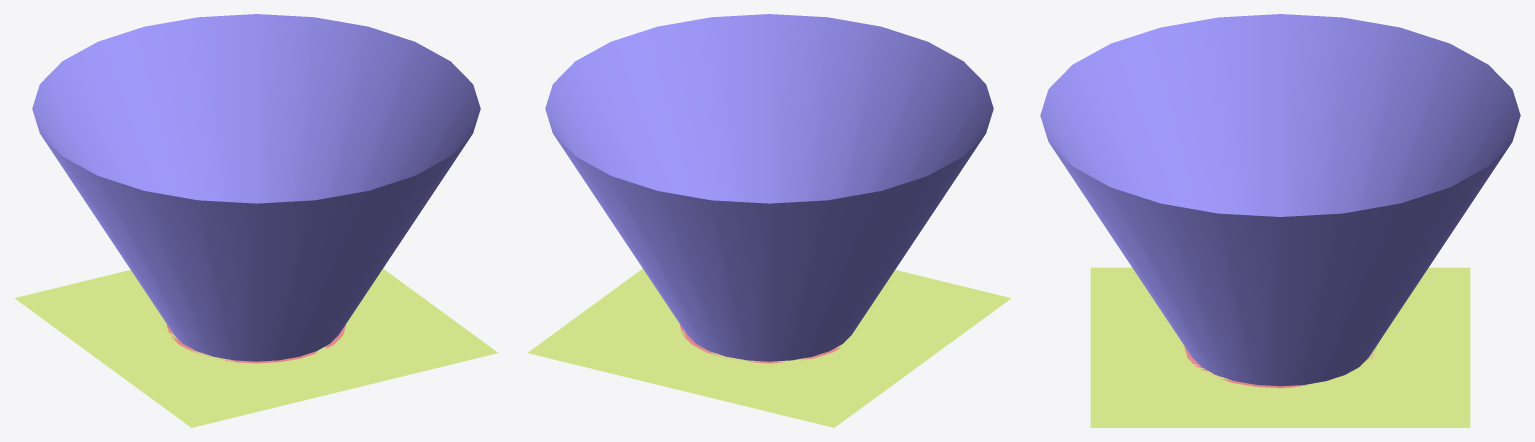
The model's file is Light_DengPian7_1D5X1D5_on.FBX.
The picture shows the model from 3 angles, left to right: view 1: azimuth 30°, elevation 25°; view 2: azimuth 150°, elevation 25°; view 3: azimuth 270°, elevation 25°; orthographic projection. The views are drawn at different scales.
Parts seen in each view (by area): view 1: Box003; view 2: Box003; view 3: Box003.
Boxes of the visible parts, x1,y1,x2,y2 form: Box003: (14, 14, 497, 427); Box003: (528, 14, 1011, 427); Box003: (1040, 14, 1520, 427).
Bounding box in the file's own units: 3.75 × 2.2 × 3.75.
